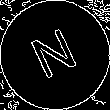N_SE: (26, 24, 84, 86)
